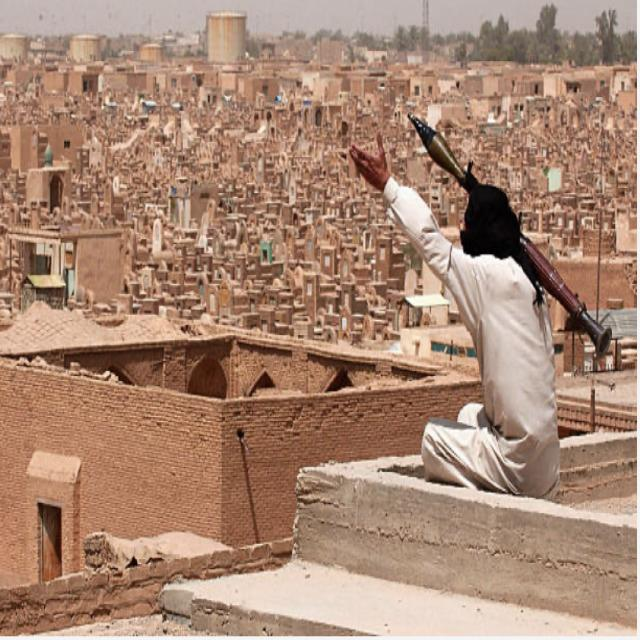bazooka: (406, 105, 612, 372)
